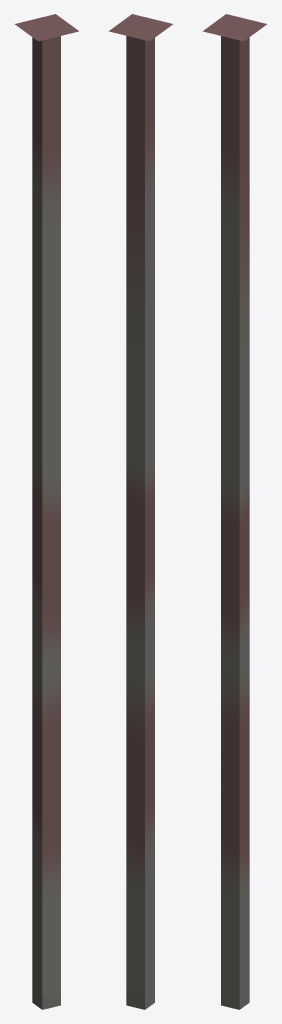
Rendered from FlagPole.obj.
3 renders of one model, left to right at view 1: azimuth 30°, elevation 25°; view 2: azimuth 150°, elevation 25°; view 3: azimuth 330°, elevation 25°, orthographic.
Parts seen in each view (by area): view 1: 立方体; view 2: 立方体; view 3: 立方体.
Part boxes in pixels (<box>): 立方体: <box>15,14,78,1009</box>; 立方体: <box>109,14,172,1009</box>; 立方体: <box>203,14,266,1009</box>.
Size of the model in its own units: 0.4 by 9.03 by 0.398.
1 material, 1 textured.
